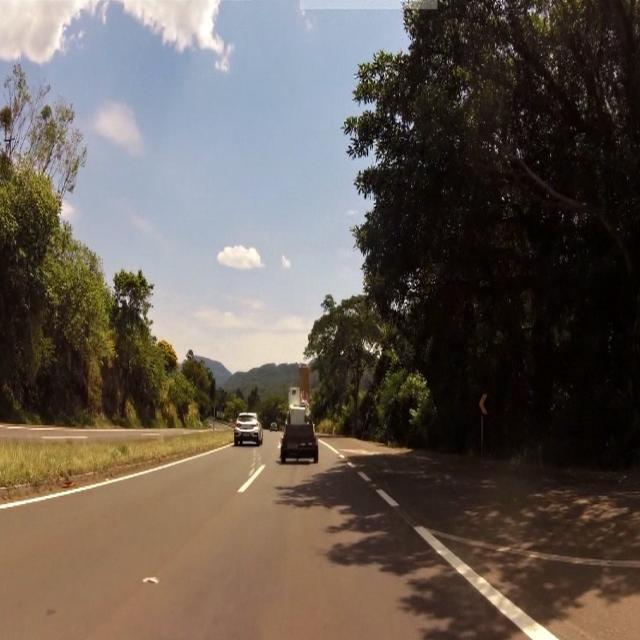Del: (477, 391, 493, 419)
